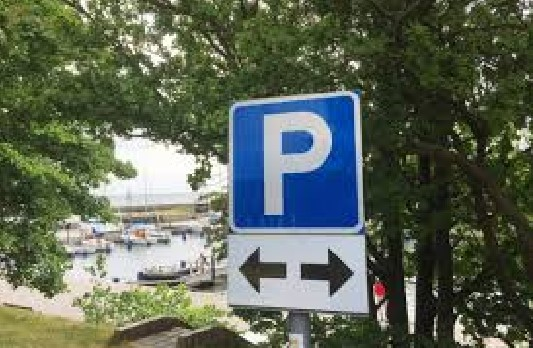Parking: (216, 87, 370, 241)
